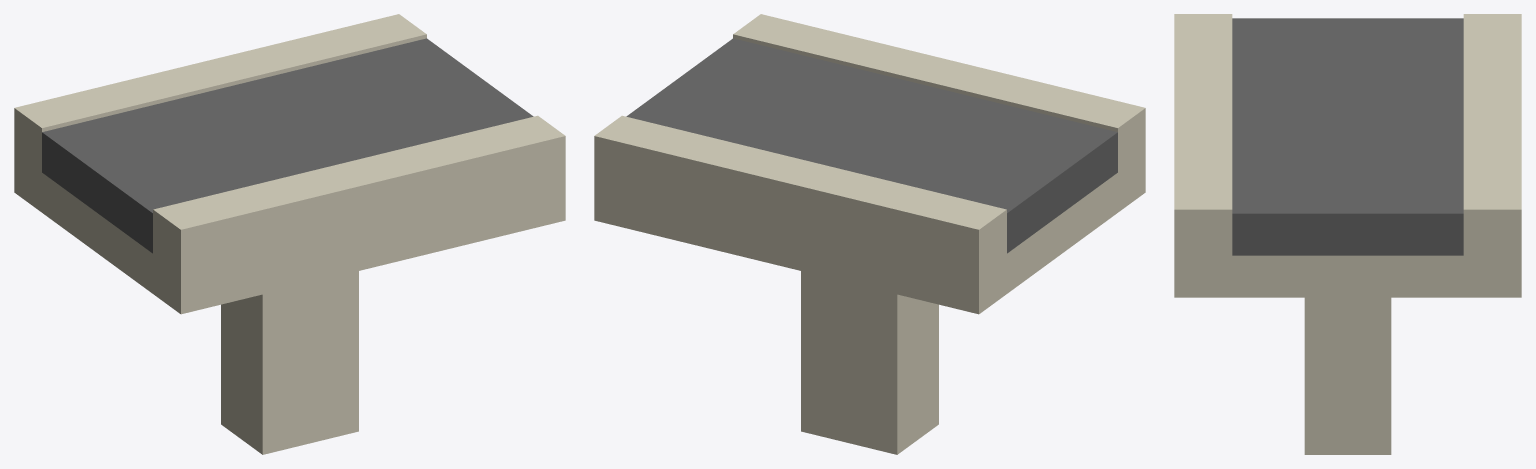
Rendered from tile236.dae.
3 renders of one model, left to right at view 1: azimuth 30°, elevation 25°; view 2: azimuth 150°, elevation 25°; view 3: azimuth 270°, elevation 25°, orthographic. The views are drawn at different scales.
Parts seen in each view (by area): view 1: tile236; view 2: tile236; view 3: tile236.
Part boxes in pixels (x1,y1,x2,y2): tile236: [14, 14, 565, 454]; tile236: [594, 14, 1145, 454]; tile236: [1174, 14, 1521, 454].
Size of the model in its own units: 1 by 0.76 by 0.75.
